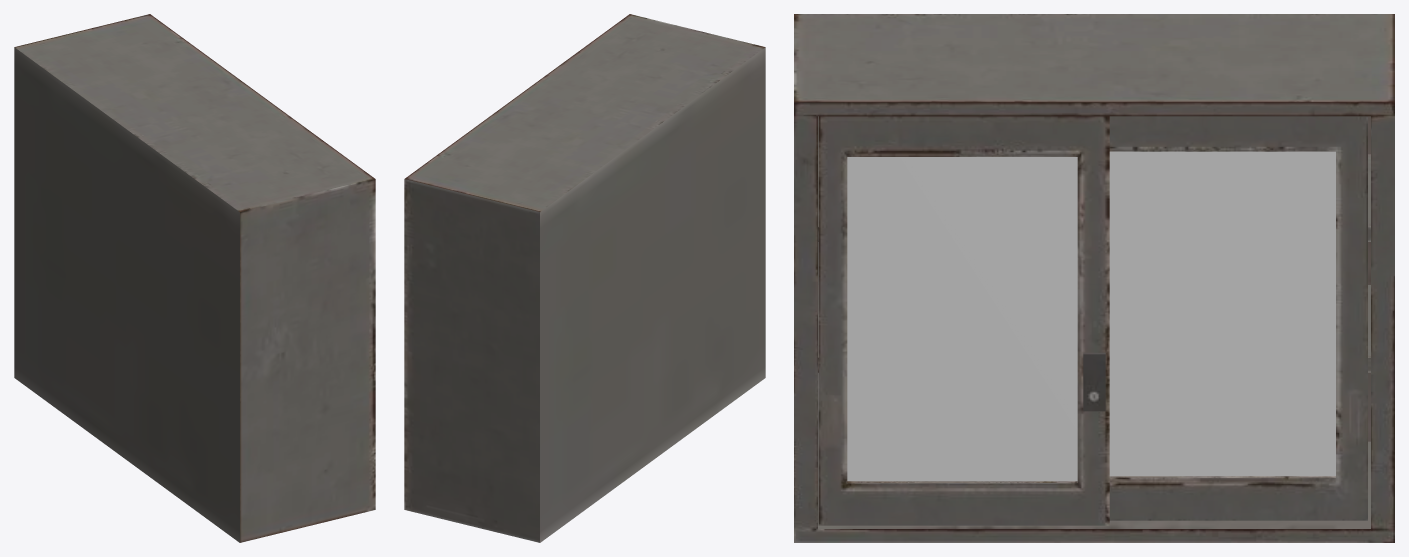
The model's file is med_cabinet.glb.
3 renders of one model, left to right at view 1: azimuth 30°, elevation 25°; view 2: azimuth 150°, elevation 25°; view 3: azimuth 270°, elevation 25°, orthographic. The views are drawn at different scales.
Parts seen in each view (by area): view 1: zp_shelf; view 2: zp_shelf; view 3: zp_shelf.
Boxes of the visible parts, x1,y1,x2,y2 form: zp_shelf: [14, 14, 375, 542]; zp_shelf: [404, 14, 765, 542]; zp_shelf: [794, 14, 1394, 542].
Size of the model in its own units: 0.4451 by 1.04 by 1.28.
2 materials, 1 textured.
